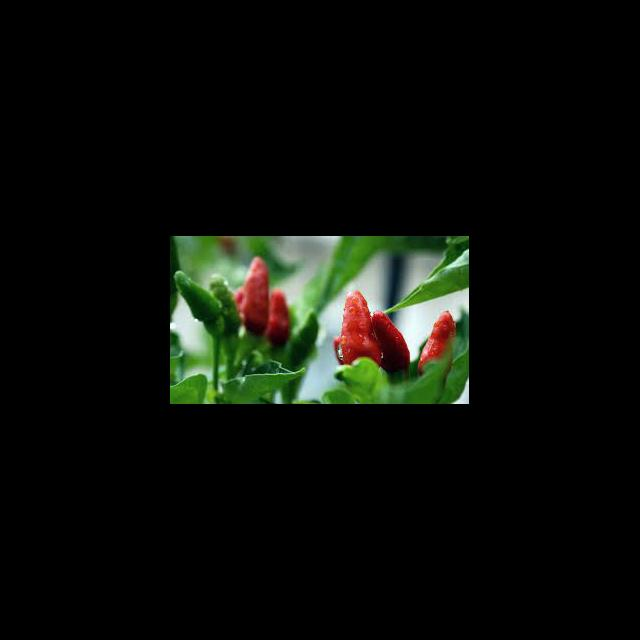chili_pepper: (332, 290, 382, 366), (416, 312, 457, 392), (174, 271, 226, 328), (235, 258, 270, 336), (369, 310, 410, 373), (264, 293, 290, 346)
